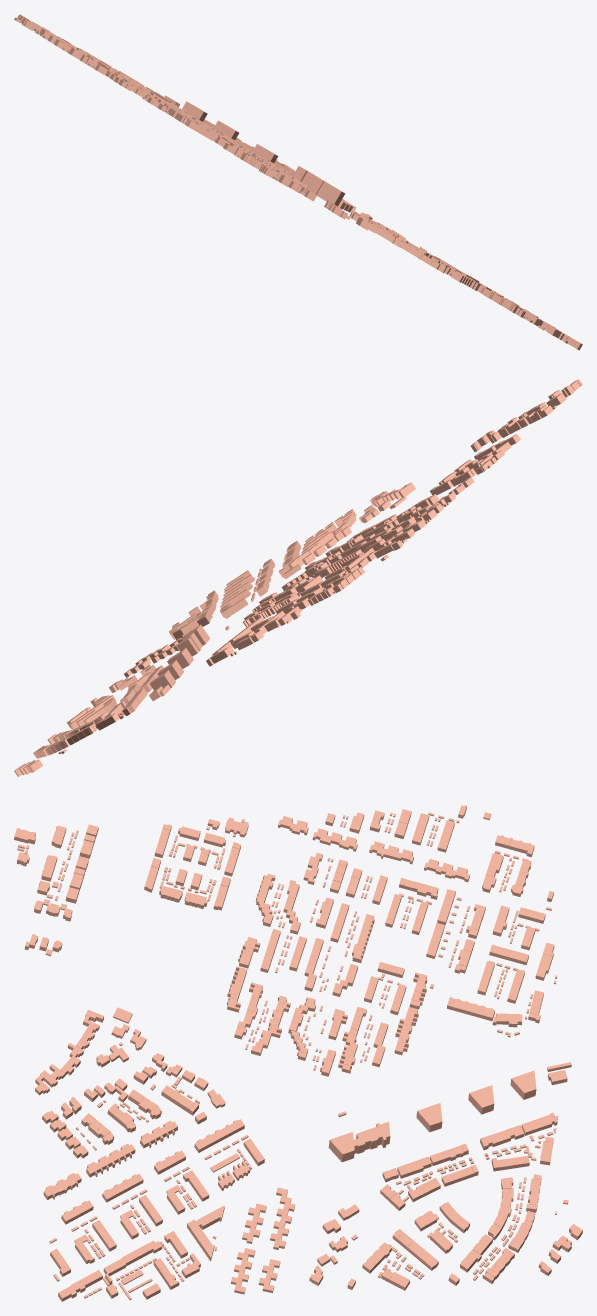
3 renders of one model, top to bottom at view 1: azimuth 30°, elevation 25°; view 2: azimuth 150°, elevation 25°; view 3: azimuth 270°, elevation 25°, orthographic. The views are drawn at different scales.
Bounding box in the file's own units: 525 × 382 × 644.
